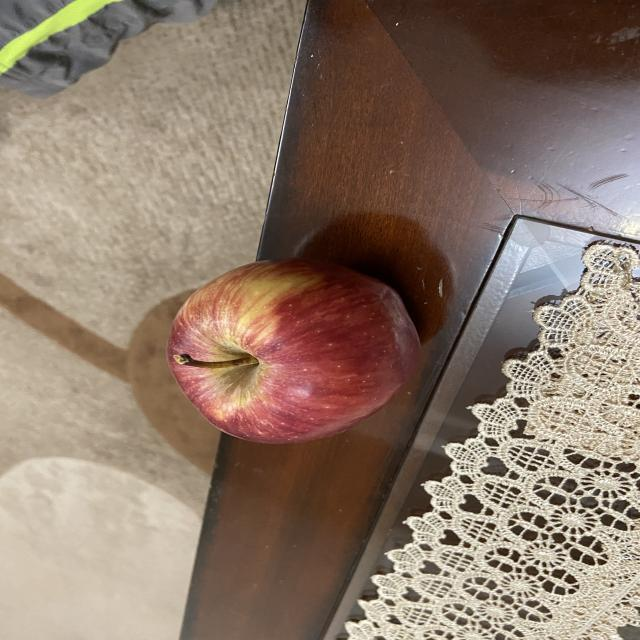apple: (160, 257, 434, 445)
